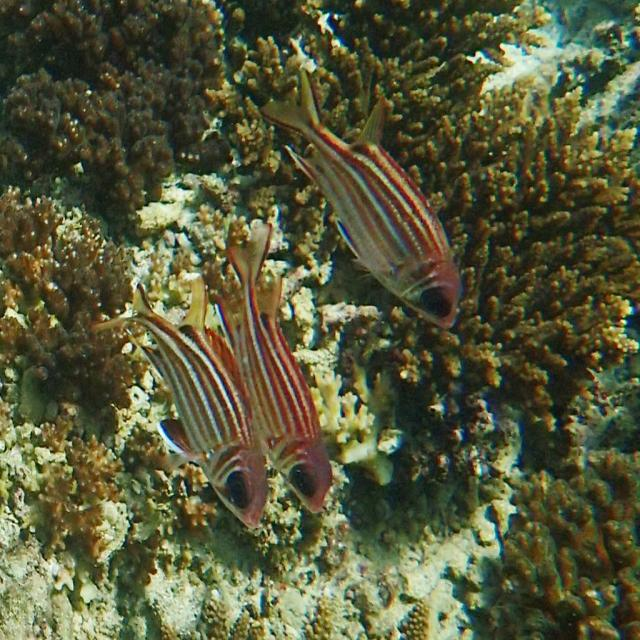Asker Baligi: (130, 208, 356, 544), (264, 29, 477, 341)
